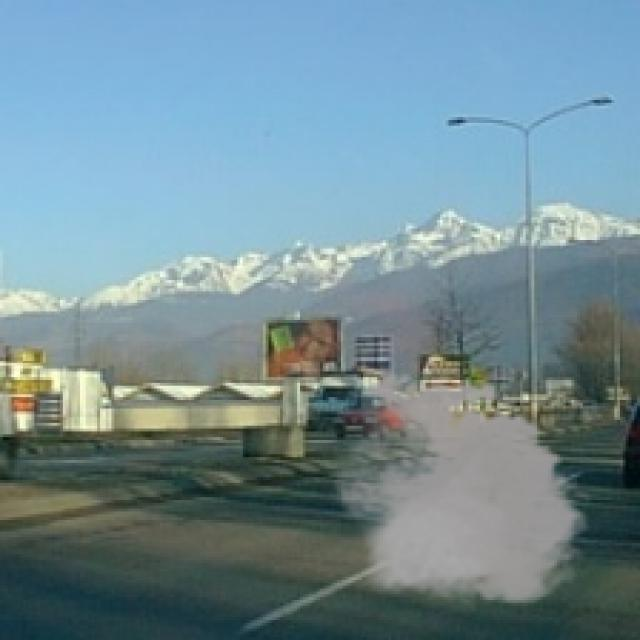smoke: (320, 366, 597, 614)
